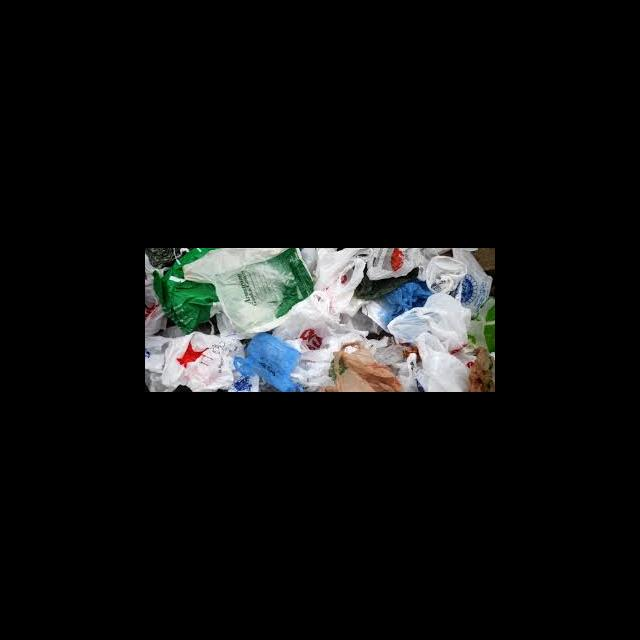plastic: (145, 248, 494, 391), (181, 248, 311, 340), (271, 291, 366, 371), (145, 302, 212, 391), (151, 248, 219, 333), (385, 292, 473, 353), (159, 330, 244, 391), (234, 331, 299, 391), (328, 340, 400, 391), (312, 248, 364, 316), (412, 330, 468, 391), (361, 333, 419, 391), (351, 251, 418, 296), (451, 248, 494, 318), (282, 337, 334, 391), (364, 248, 450, 280), (383, 277, 433, 321), (424, 254, 466, 302), (467, 291, 494, 355), (145, 252, 169, 316), (467, 341, 494, 391), (360, 294, 390, 333), (145, 248, 195, 267), (299, 248, 336, 272), (470, 248, 494, 272)
